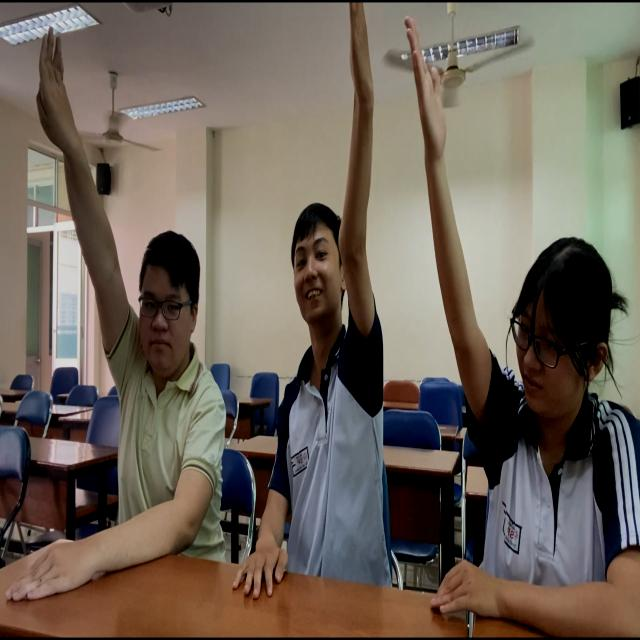raise_hand: (415, 21, 638, 635), (38, 26, 222, 597), (248, 2, 384, 616)
